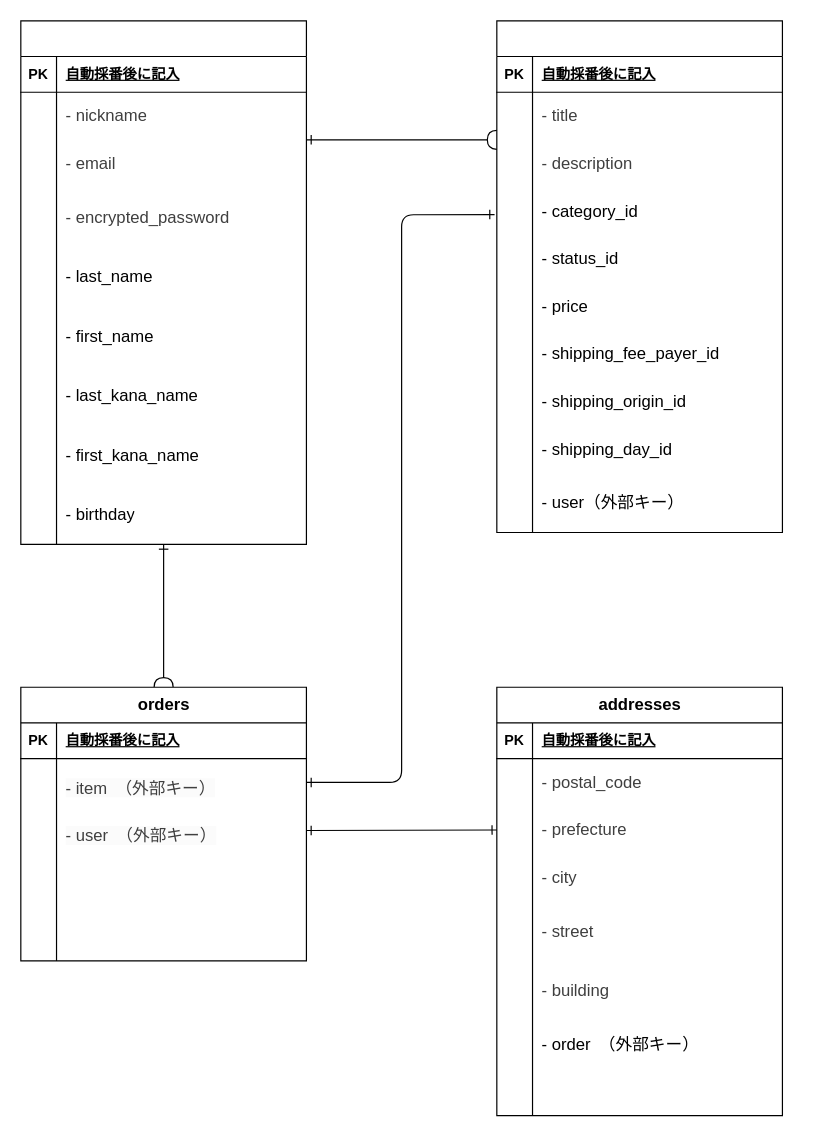
The diagram is 815 pixels wide and 1136 high, and some of its shapes have lost their labels. The shapes that lost their labels are listed below. From the top down, each one's box as (x1, y1, x2, y2) in pixels, then its label:
(20, 20, 306, 544): users
(496, 20, 782, 533): items
